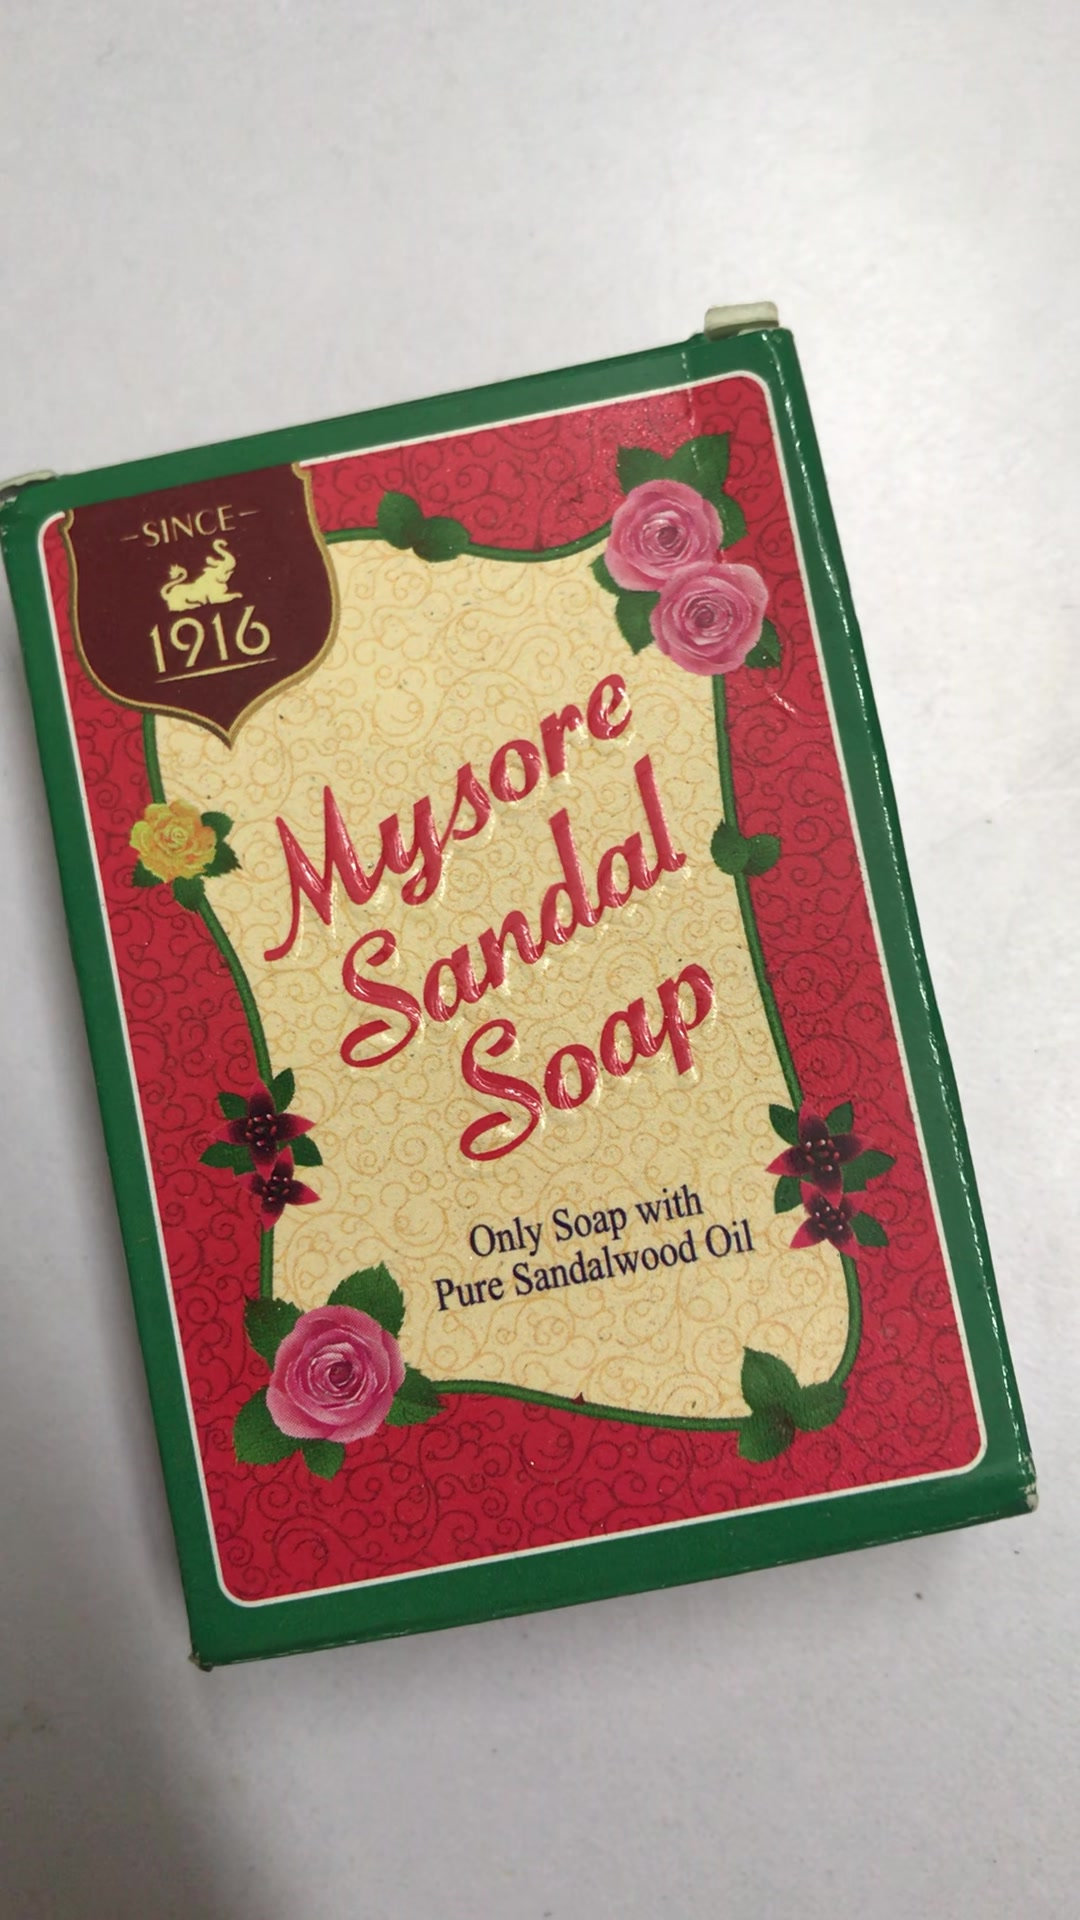mysore sandal soap: (1, 302, 1040, 1671)
